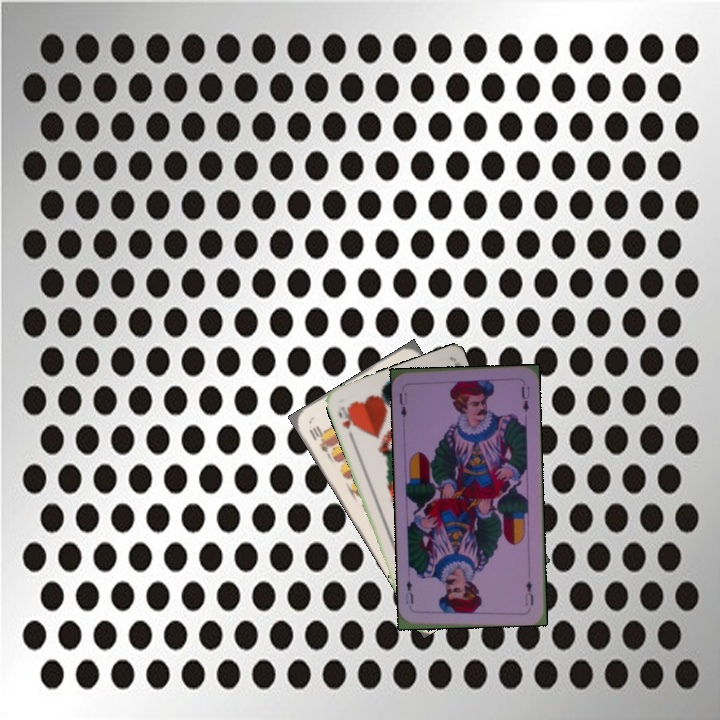E10: (305, 421, 333, 455)
EU: (395, 384, 410, 420), (521, 577, 536, 608)
HO: (334, 402, 357, 441)
